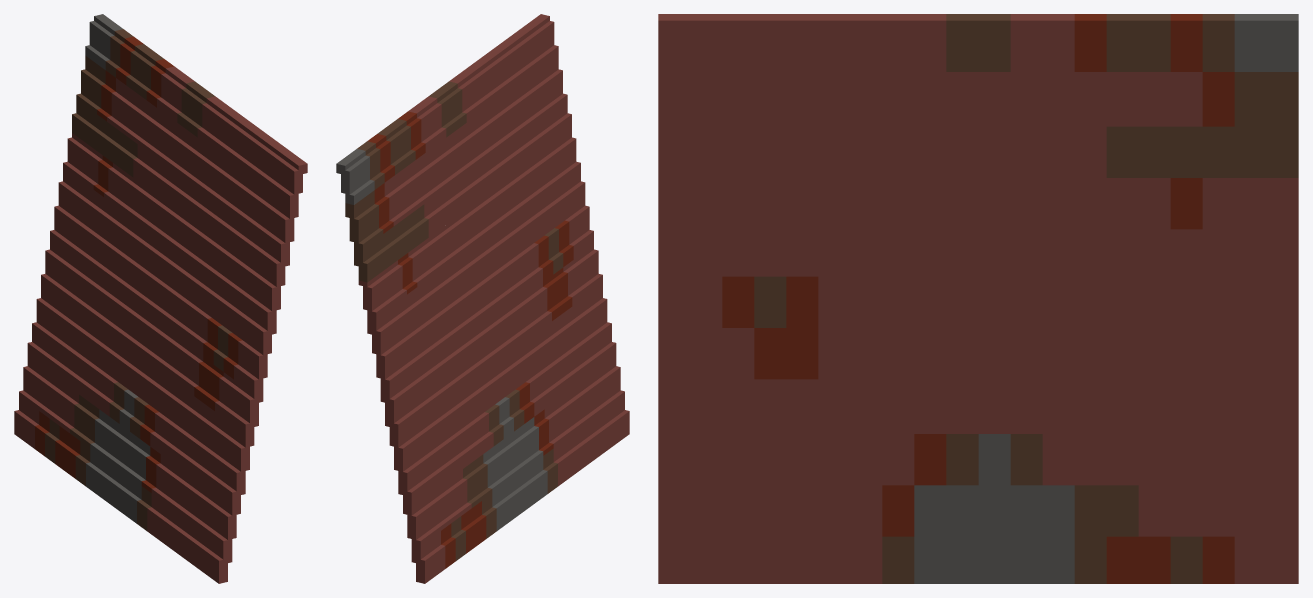
The model's file is jackknifed_lorry_cab_back.glb.
3 renders of one model, left to right at view 1: azimuth 30°, elevation 25°; view 2: azimuth 150°, elevation 25°; view 3: azimuth 270°, elevation 25°, orthographic. The views are drawn at different scales.
Parts seen in each view (by area): view 1: body:compound; view 2: body:compound; view 3: body:compound.
Boxes of the visible parts, x1,y1,x2,y2 form: body:compound: [14, 14, 307, 583]; body:compound: [336, 14, 629, 583]; body:compound: [658, 14, 1298, 583].
Bounding box in the file's own units: 0.625 × 2.69 × 2.5.
